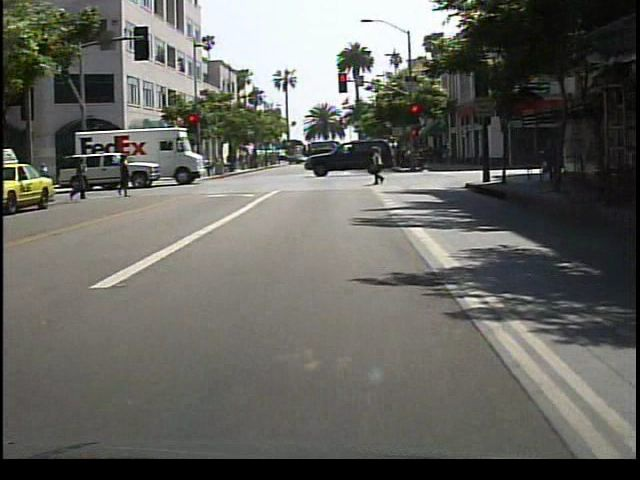person: (539, 135, 567, 190), (70, 156, 92, 206), (369, 145, 393, 188), (113, 153, 134, 201)
